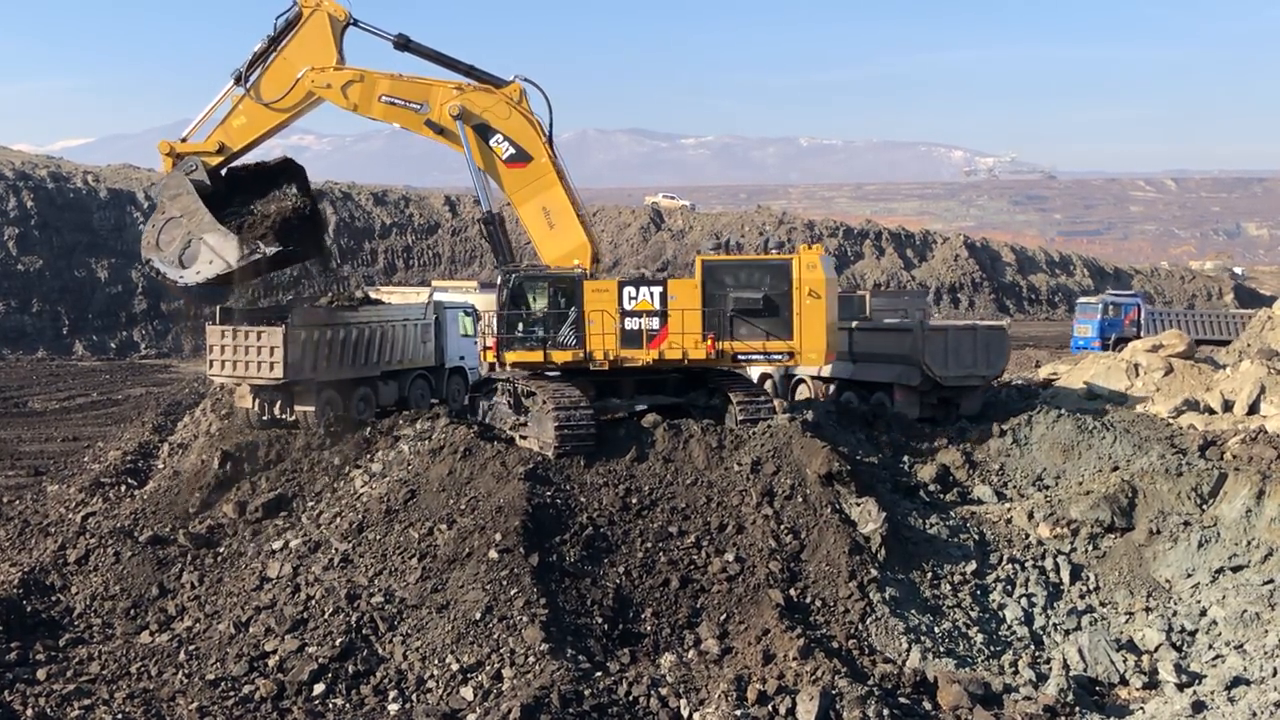full: (134, 151, 320, 290)
